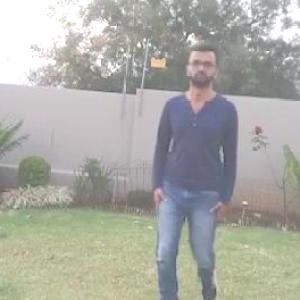follow: (152, 52, 234, 299)
